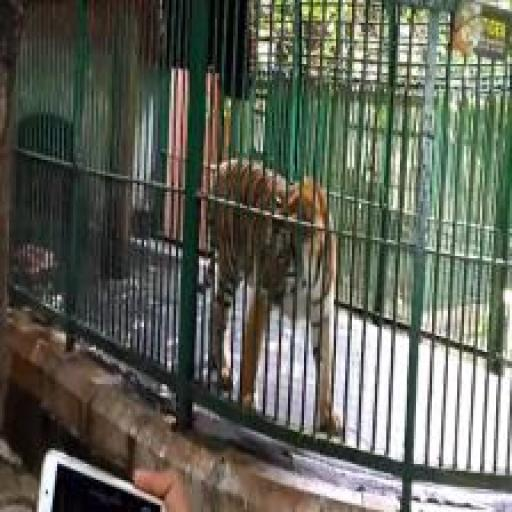Tiger: (199, 151, 358, 454)
